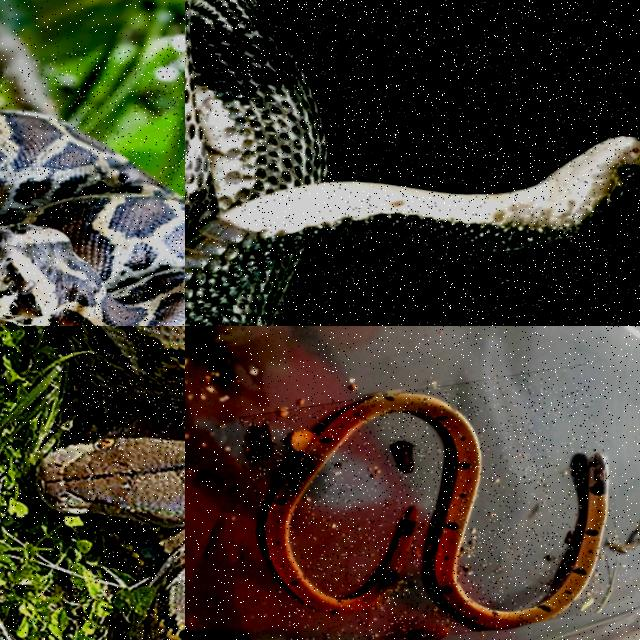Calliophis maculiceps: (263, 389, 606, 625)
Malayopython reticulatus: (34, 326, 184, 639)
Naja siamensis: (185, 0, 639, 325)
Python bivittatus: (0, 110, 184, 325)
snake: (185, 0, 639, 325), (263, 389, 606, 625), (34, 326, 184, 639), (0, 110, 184, 325)
